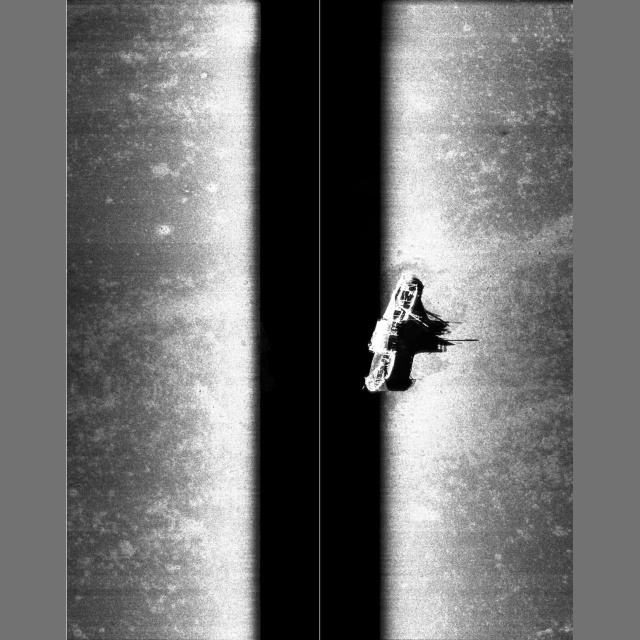Shipwreck: (362, 276, 429, 393)
